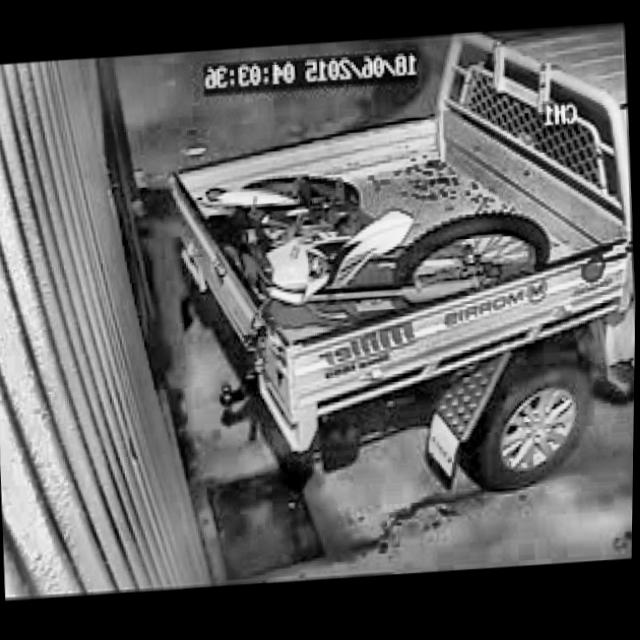burglary: (159, 135, 570, 372)
